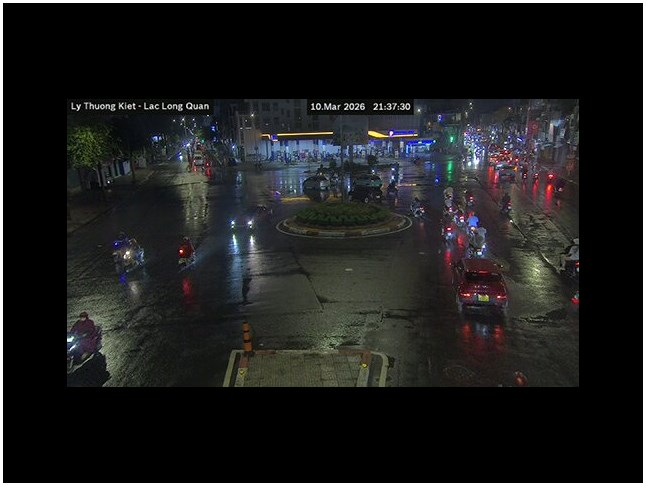car: (454, 257, 510, 311)
